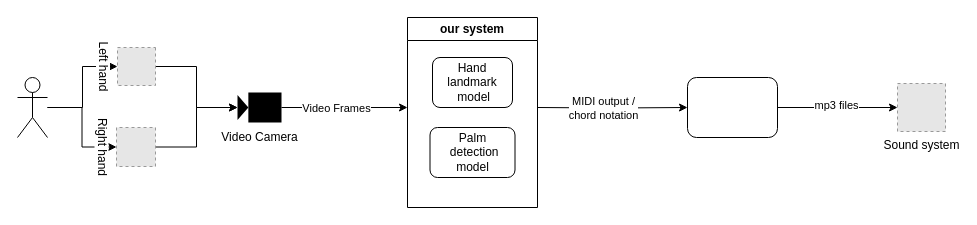
Some shapes in this 977 by 225 pixel diagram are drawn without their labels. Grey dashed boxes stand in for pictures. The shapes that lost their labels are listed below. From the top down, each one's centre as x and y in pixels, then its label:
At (x=32, y=107): "User".
At (x=732, y=107): "Sound Bank".
